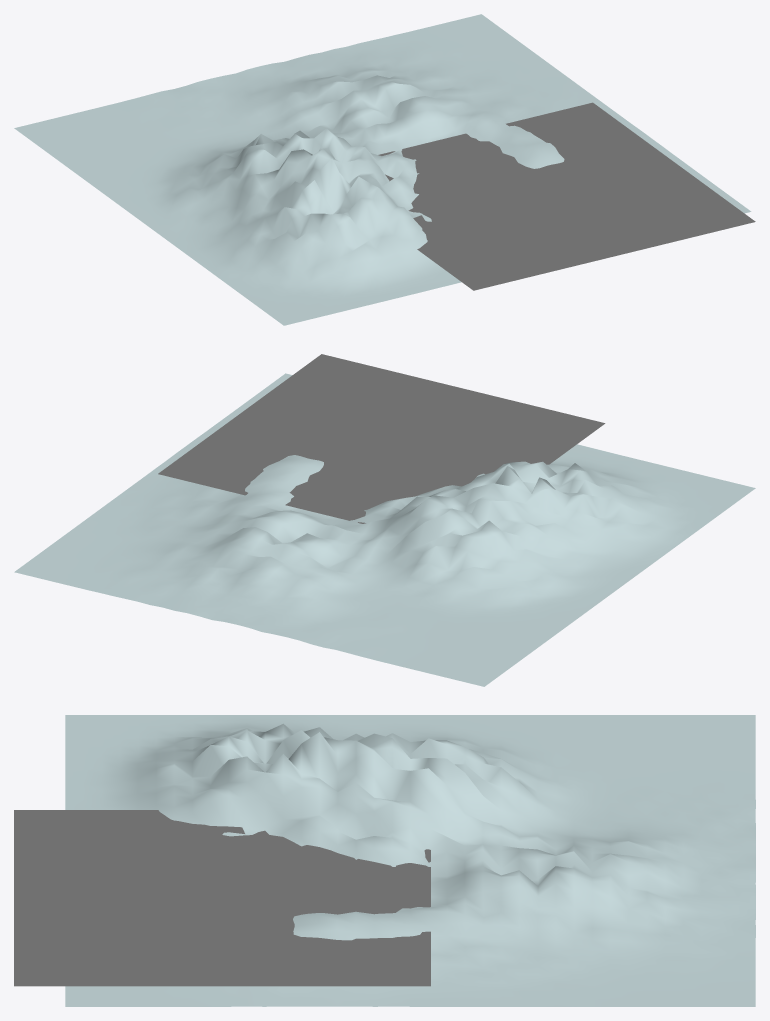
The model's file is bb-ice.fbx.
3 views of the same model, one above another, from view 1: azimuth 30°, elevation 25°; view 2: azimuth 150°, elevation 25°; view 3: azimuth 270°, elevation 25° (orthographic). The views are drawn at different scales.
Parts seen in each view (by area): view 1: pPlane1, pPlane2; view 2: pPlane1, pPlane2; view 3: pPlane1, pPlane2.
Boxes of the visible parts, x1,y1,x2,y2 form: pPlane1: (14,14,751,325); pPlane2: (378,102,755,290); pPlane1: (14,373,755,686); pPlane2: (158,354,605,523); pPlane1: (65,715,755,1006); pPlane2: (14,810,430,986).
Size of the model in its own units: 2254 by 271 by 2422.
